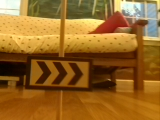right: (27, 57, 92, 90)
